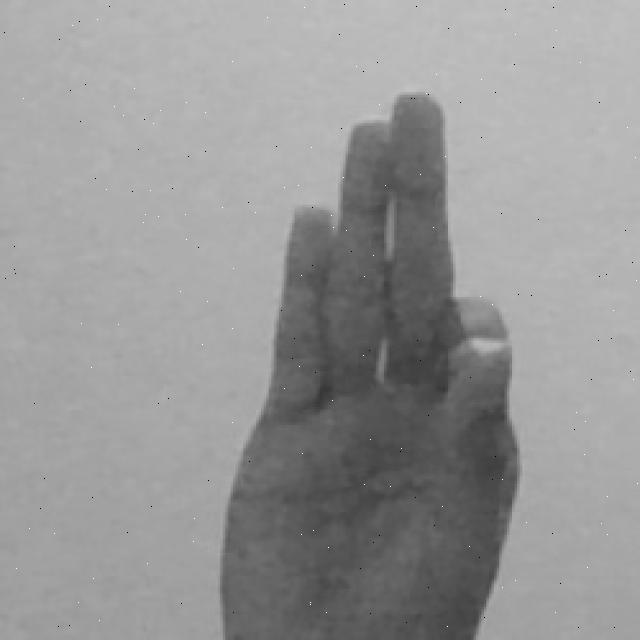F: (219, 89, 527, 640)
